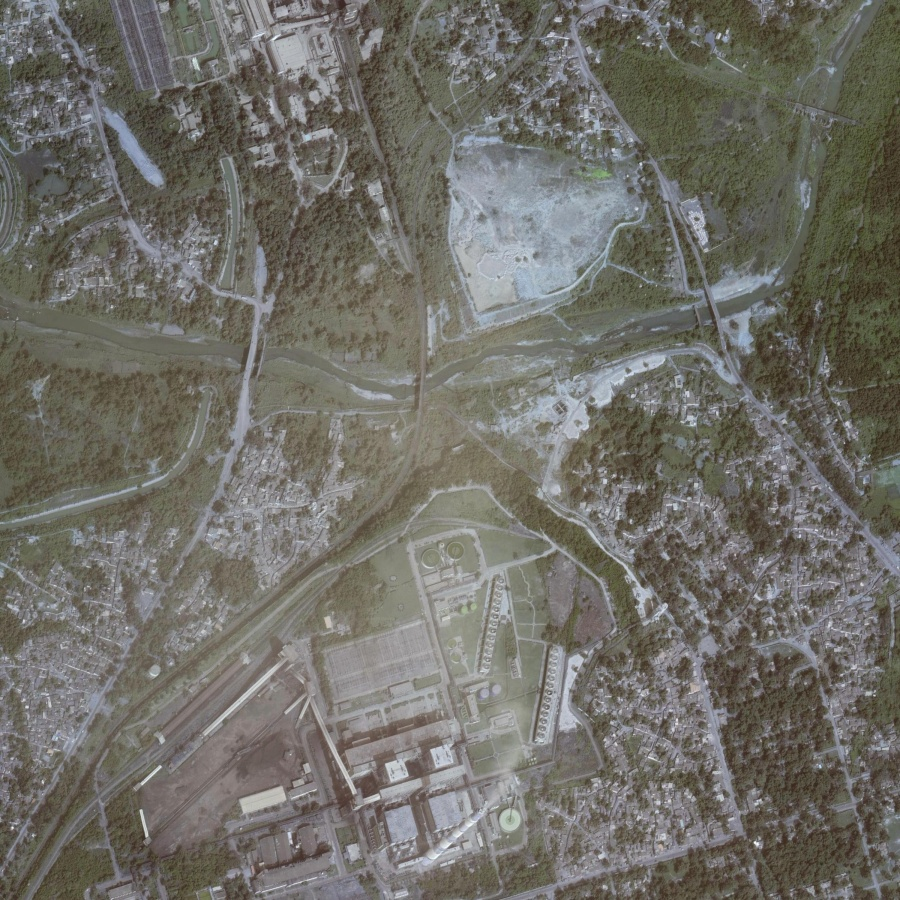PowerPlant: (136, 535, 578, 889)
